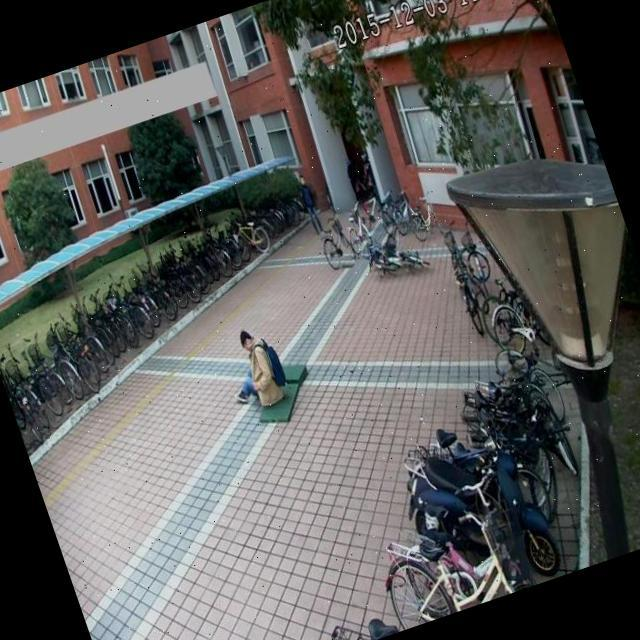person: (213, 314, 294, 418), (288, 168, 329, 240)
